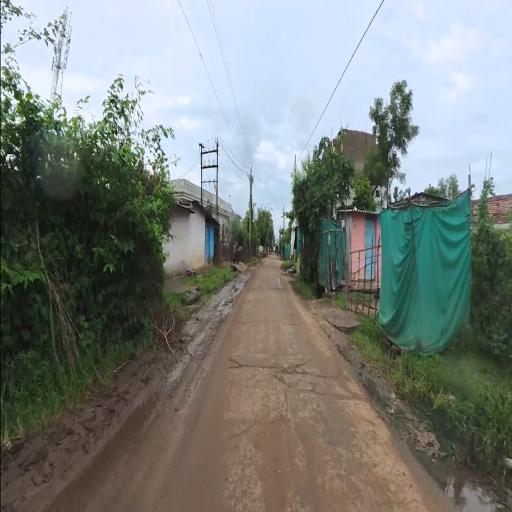drainage_issue: (331, 317, 489, 504)
longitudinal_crack: (210, 294, 366, 438)
